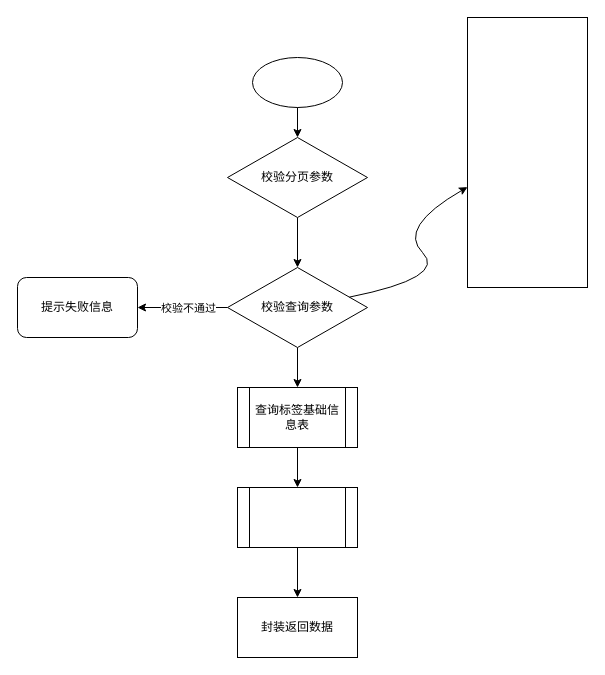
Some shapes in this 605 by 675 pixel diagram are drawn without their labels. Here are the shapes that lost their labels. From the top down, the box of each, then its label:
(252, 56, 342, 108): 查询标签列表
(466, 16, 588, 288): 校验参数列表： code 标签名 实体 上线状态 更新状态 创建方式 值类型 计算类型 更新模式 更新频率 创建人 修改人 创建日期 更新日期
(236, 486, 358, 548): 查询标签分类表信息
